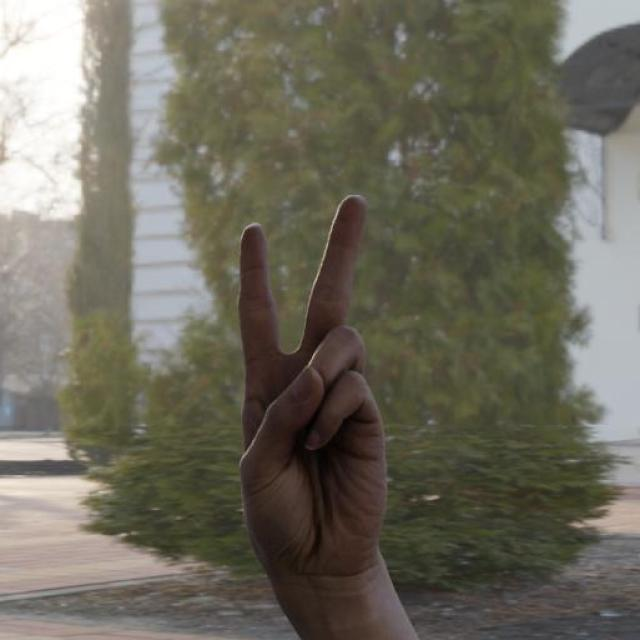V: (189, 167, 441, 640)
